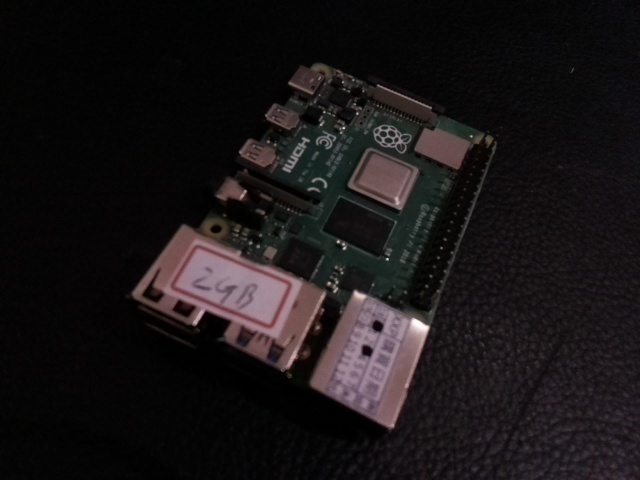pi4: (114, 35, 508, 429)
